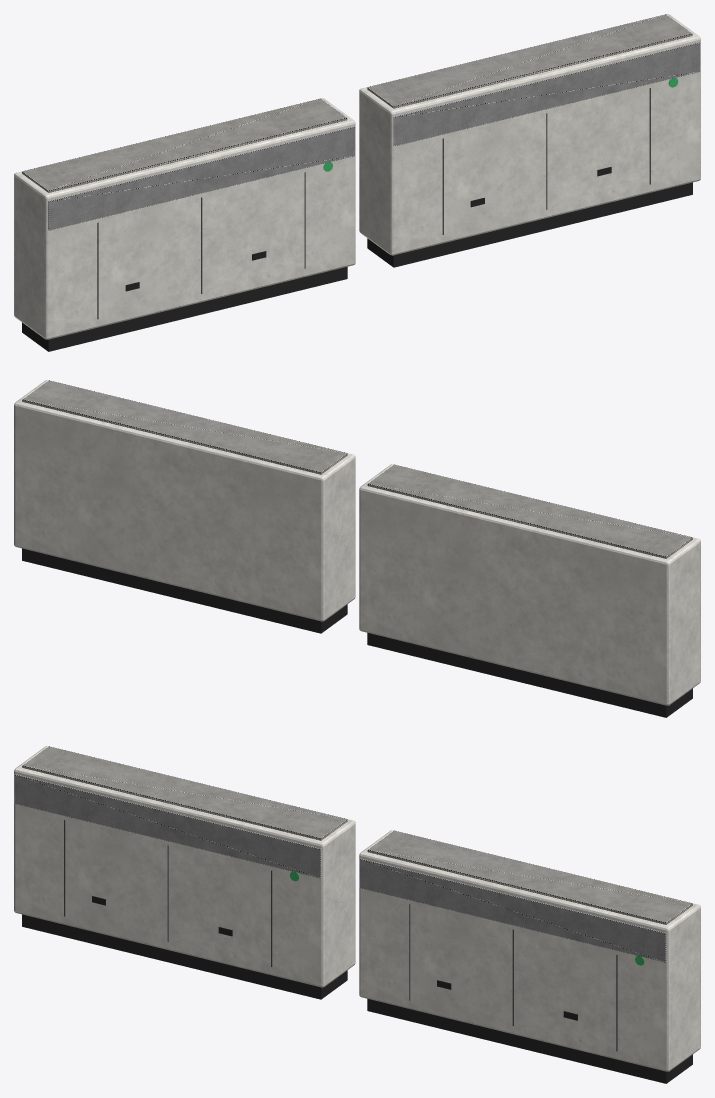
The model's file is C18_Old_Console_AC_x2.fbx.
3 views of the same model, one above another, from view 1: azimuth 30°, elevation 25°; view 2: azimuth 150°, elevation 25°; view 3: azimuth 330°, elevation 25° (orthographic).
Visible parts, largest first — view 1: Console_AC_1, Console_AC_2; view 2: Console_AC_1, Console_AC_2; view 3: Console_AC_2, Console_AC_1.
Boxes of the visible parts, left/top/right/bottom form: Console_AC_1: left=14, top=98, right=355, bottom=351; Console_AC_2: left=359, top=14, right=700, bottom=267; Console_AC_1: left=359, top=464, right=700, bottom=717; Console_AC_2: left=14, top=380, right=355, bottom=633; Console_AC_2: left=359, top=830, right=700, bottom=1083; Console_AC_1: left=14, top=746, right=355, bottom=999.
Bounding box in the file's own units: 2.85 × 0.669 × 0.256.
6 materials, 5 textured.
